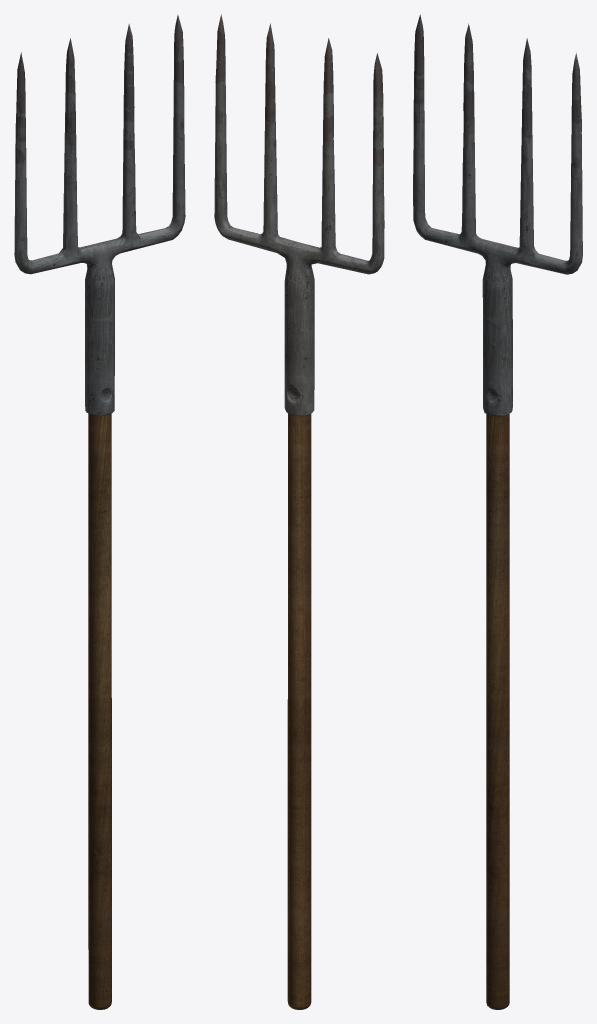
The model's file is vidle.glb.
3 views of the same model, side by side, from view 1: azimuth 30°, elevation 25°; view 2: azimuth 150°, elevation 25°; view 3: azimuth 330°, elevation 25° (orthographic).
Parts seen in each view (by area): view 1: vidle; view 2: vidle; view 3: vidle.
Part boxes in pixels (x1,y1,x2,y2): vidle: (14, 14, 185, 1009); vidle: (214, 14, 384, 1009); vidle: (413, 14, 582, 1009).
Size of the model in its own units: 0.2717 by 1.5 by 0.0422.
1 material, 1 textured.
